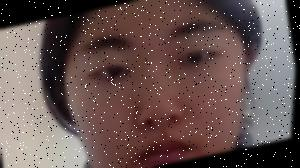eye: (108, 64, 125, 80), (190, 51, 207, 66)
iris: (178, 48, 220, 68), (95, 61, 133, 83)
